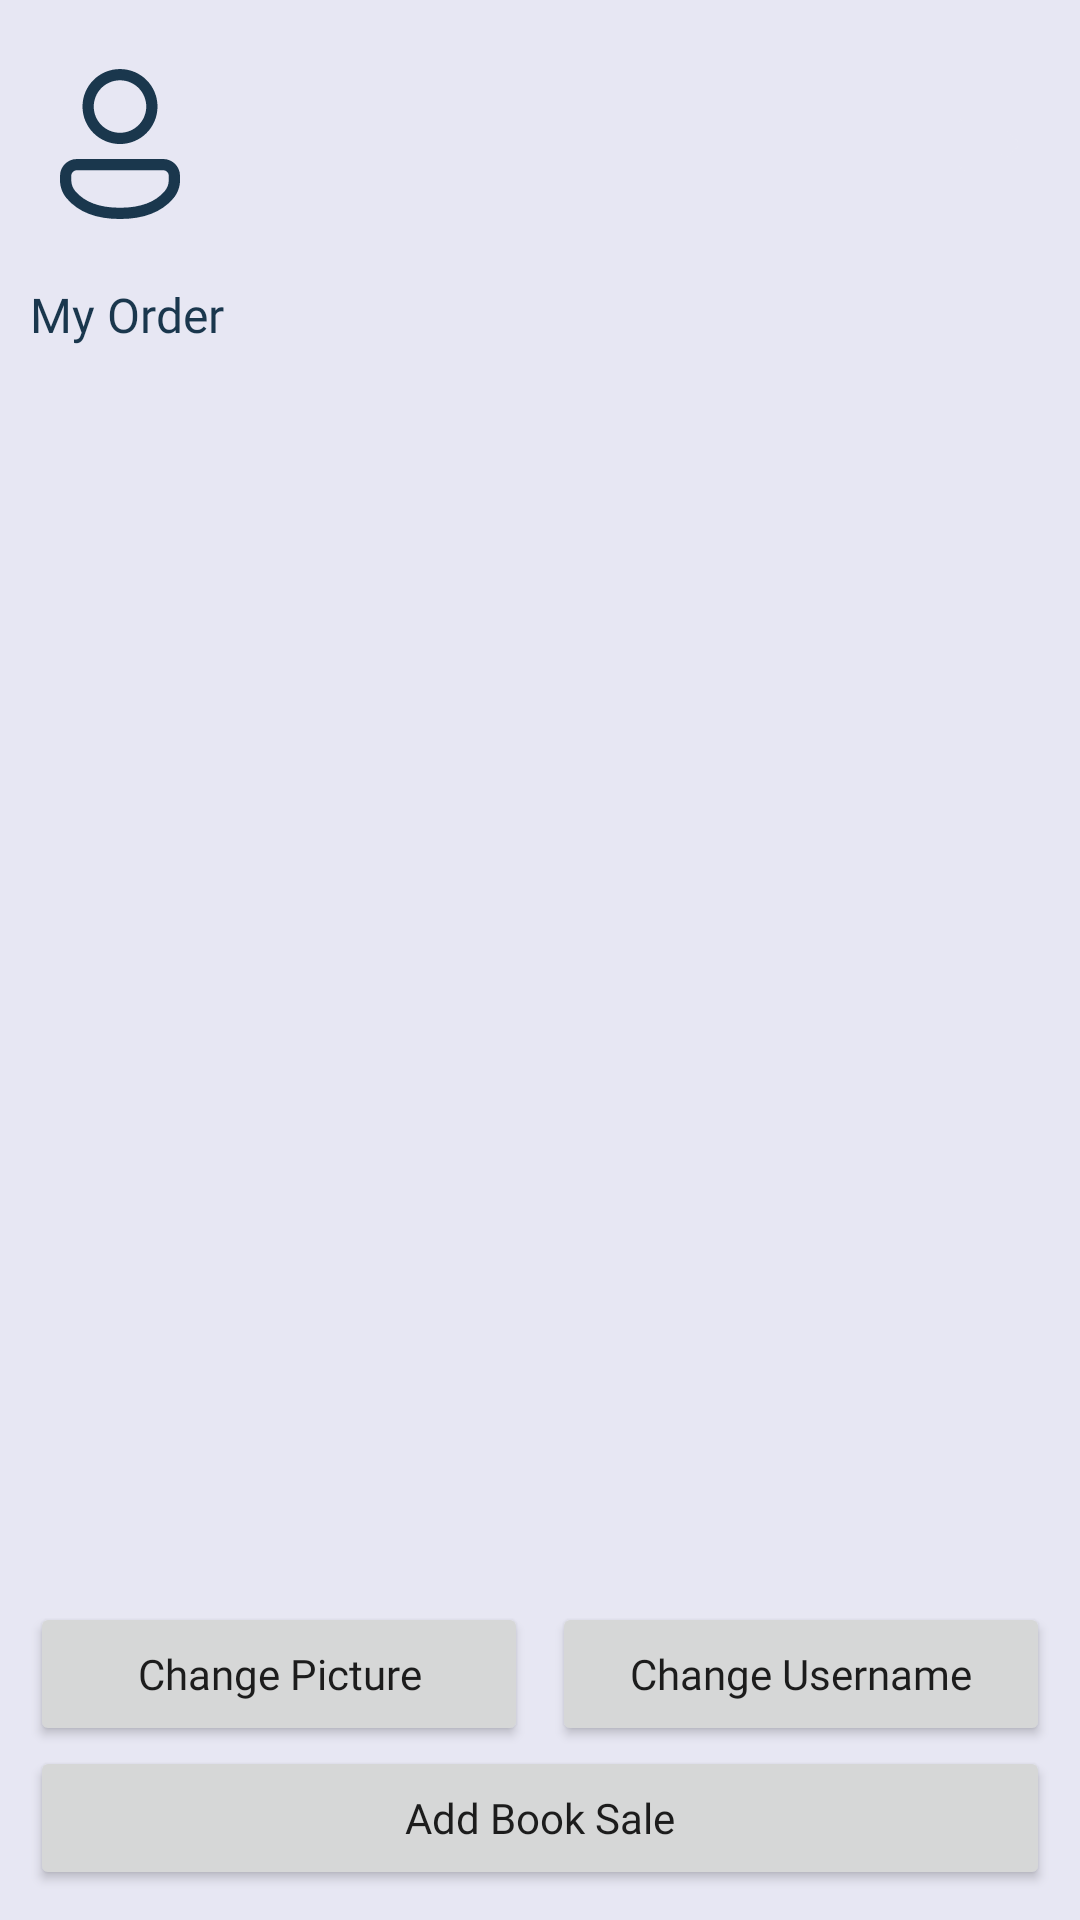

Icon bounding boxes for this 1080*1920 phone screenshot, format (x1, y1, x2, y2):
account: (60, 69, 180, 219)
